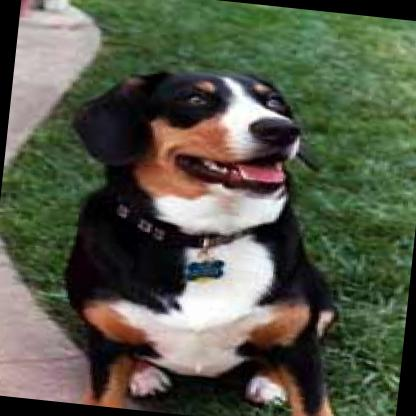EntleBucher: (47, 51, 373, 416)
